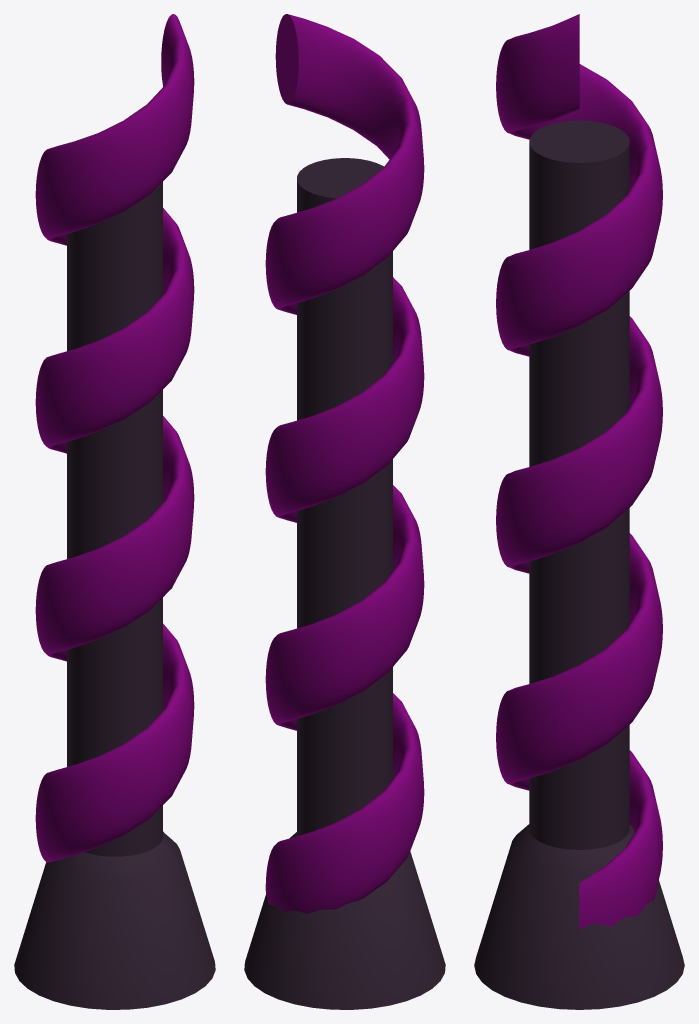
The model's file is Swing Trap Lever.fbx.
The picture shows the model from 3 angles, left to right: view 1: azimuth 30°, elevation 25°; view 2: azimuth 150°, elevation 25°; view 3: azimuth 270°, elevation 25°; orthographic projection. The views are drawn at different scales.
Visible parts, largest first — view 1: Swing; view 2: Swing; view 3: Swing.
Boxes of the visible parts, <box> form: Swing: <box>14,14,215,1009</box>; Swing: <box>244,14,445,1009</box>; Swing: <box>474,14,684,1009</box>.
Size of the model in its own units: 92.38 by 474 by 92.38.
